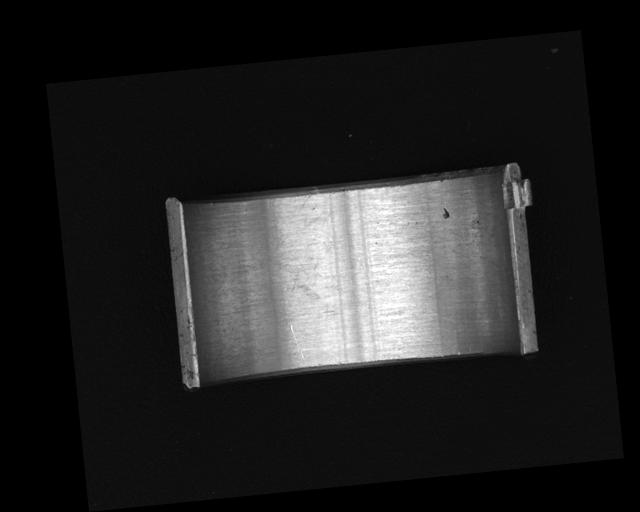blot: (272, 254, 322, 306)
bruise: (439, 205, 451, 220)
nick: (288, 324, 307, 364)
